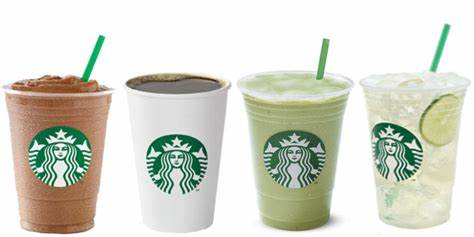starbucks Originale: (22, 115, 96, 205), (257, 119, 333, 203), (141, 123, 216, 205), (361, 111, 429, 191)
